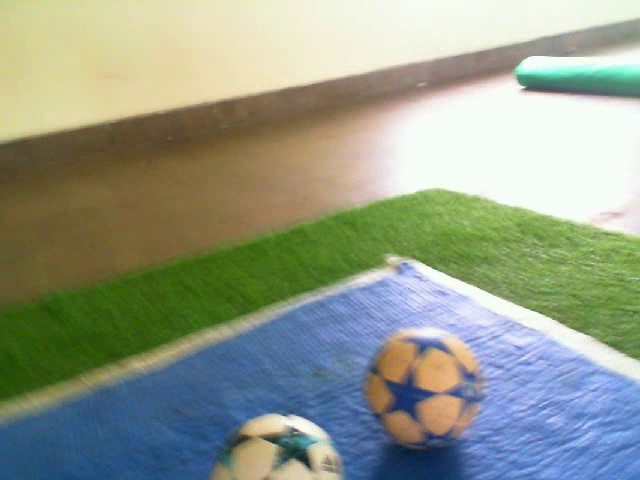ball: (361, 324, 489, 455), (204, 409, 348, 480)
